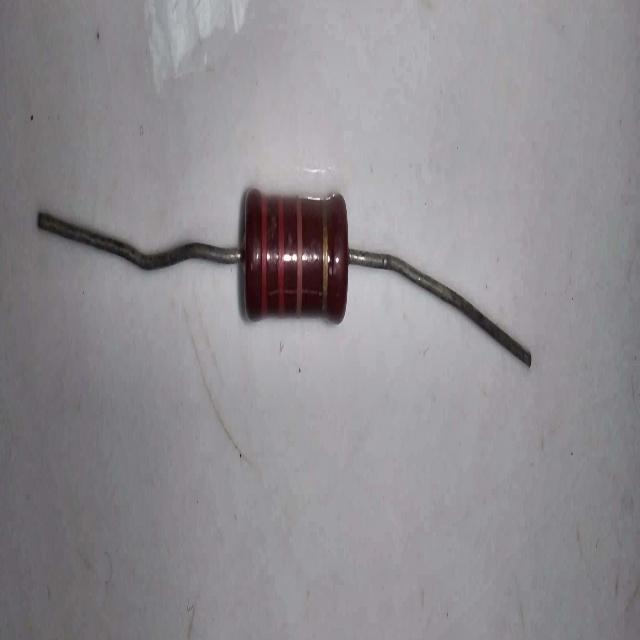Carbon Resistor: (35, 188, 553, 382)
